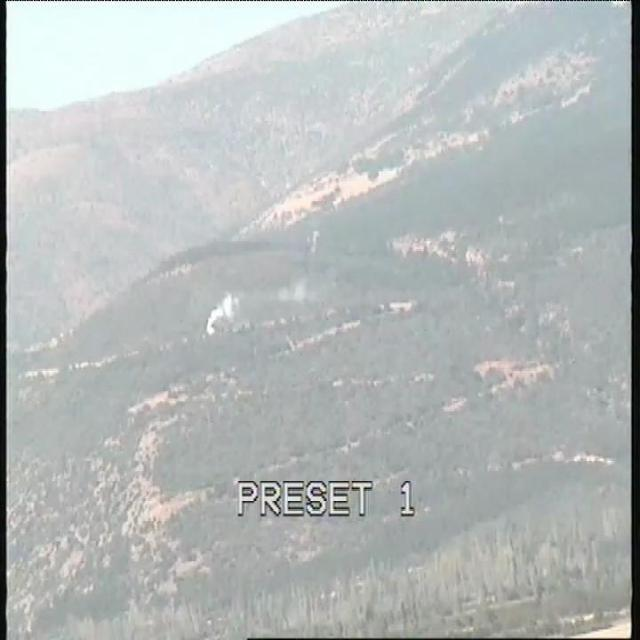Smoke: (204, 285, 236, 336)
